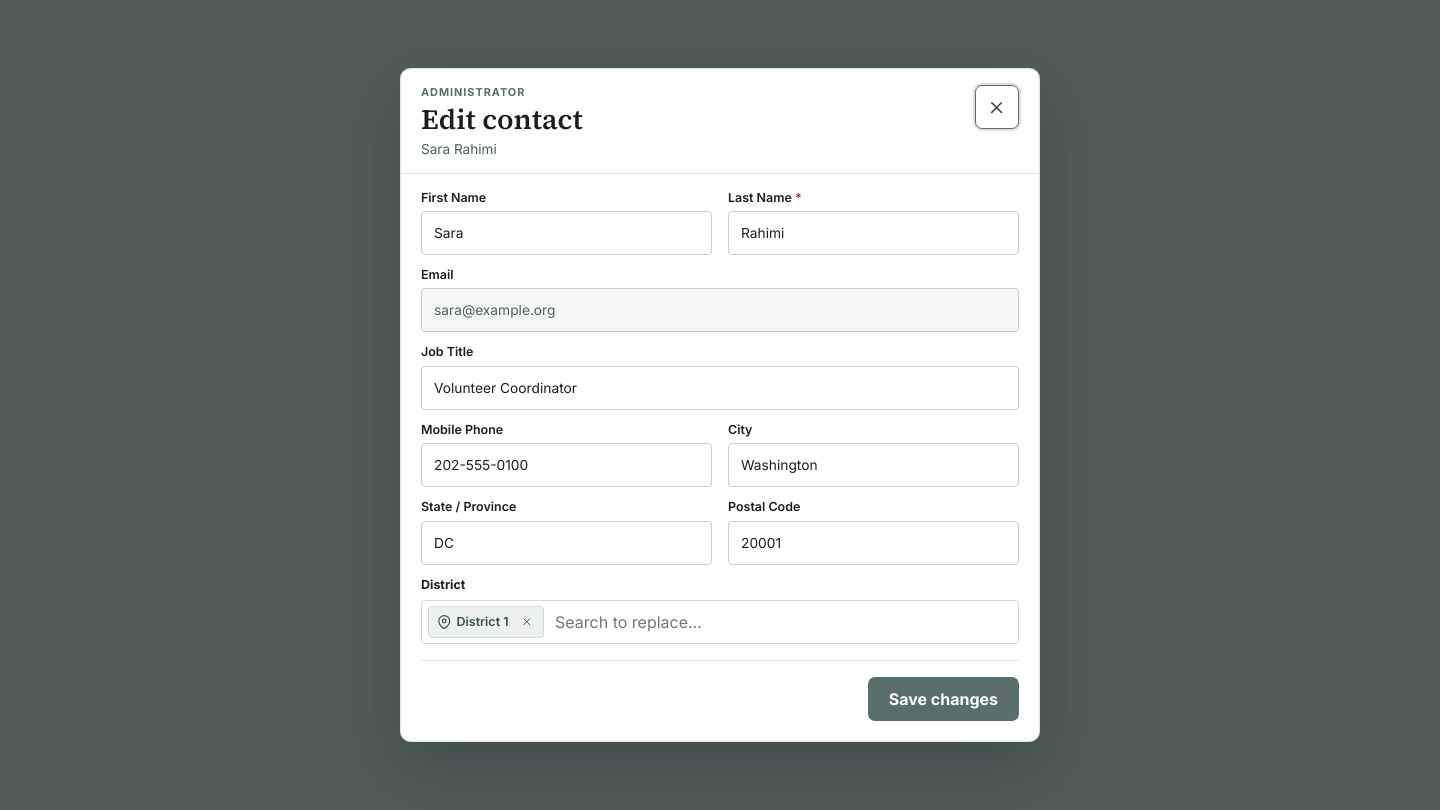
Test: AdminContactEditModal › validates Last Name and keeps a failed save open with a safe error
Clear the field labelled "Last Name" at (874, 233), box x1=728 y1=211 x2=1019 y2=255
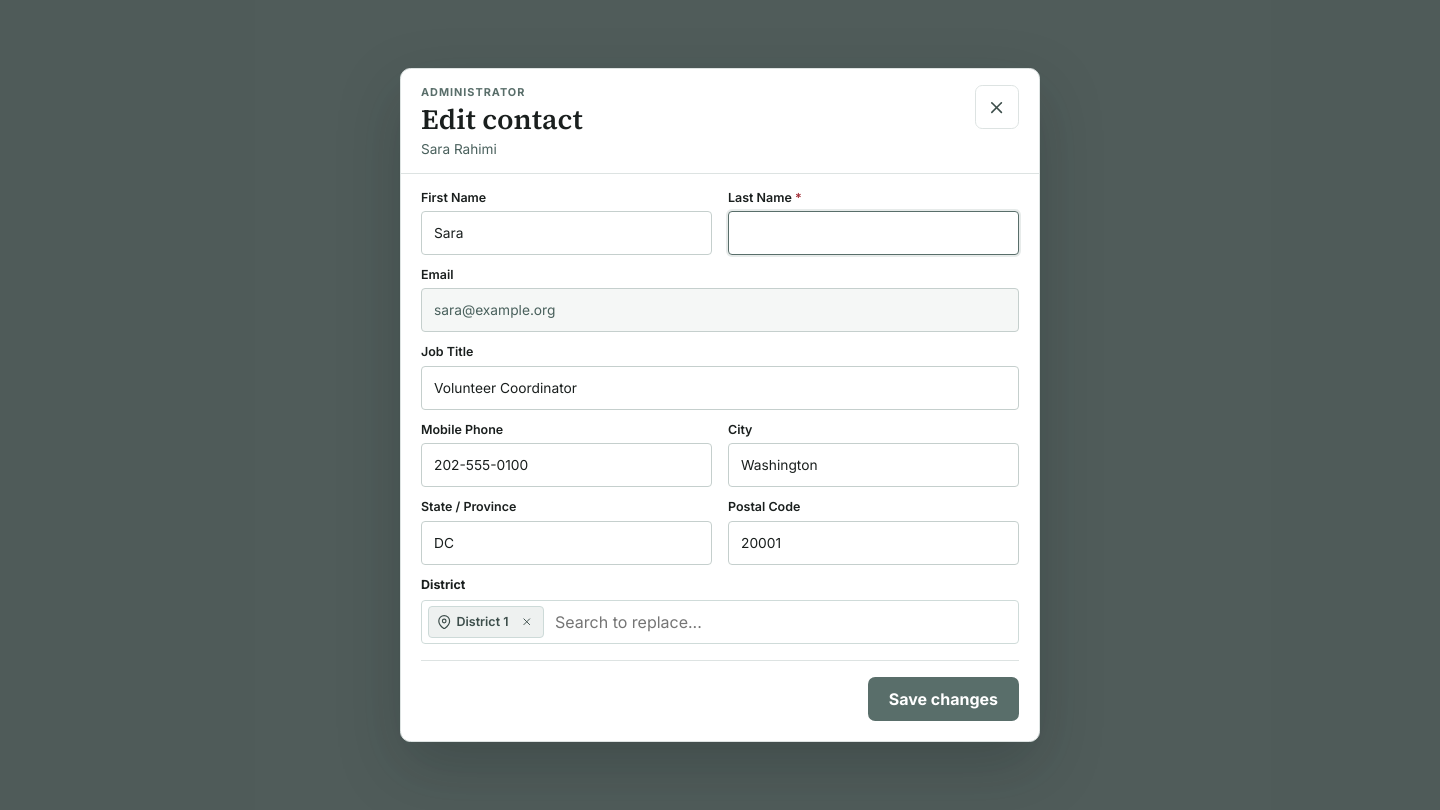
Click the button "Save changes" at (943, 699), box x1=868 y1=677 x2=1019 y2=721
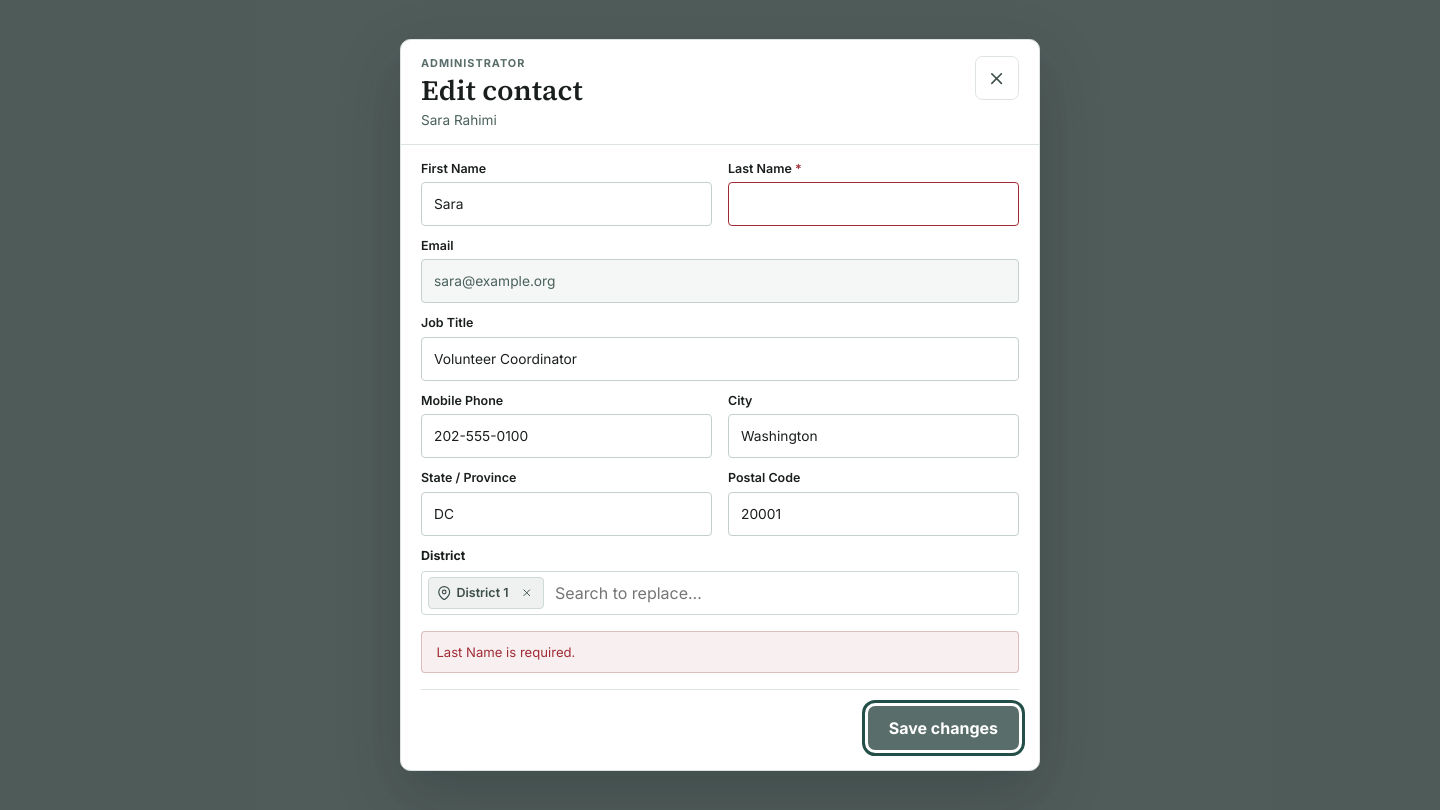
Expected: the message reads "Last Name is required.", x1=436 y1=644 x2=575 y2=660
Type "Rahimi" into the field labelled "Last Name" at (874, 204), box x1=728 y1=182 x2=1019 y2=226
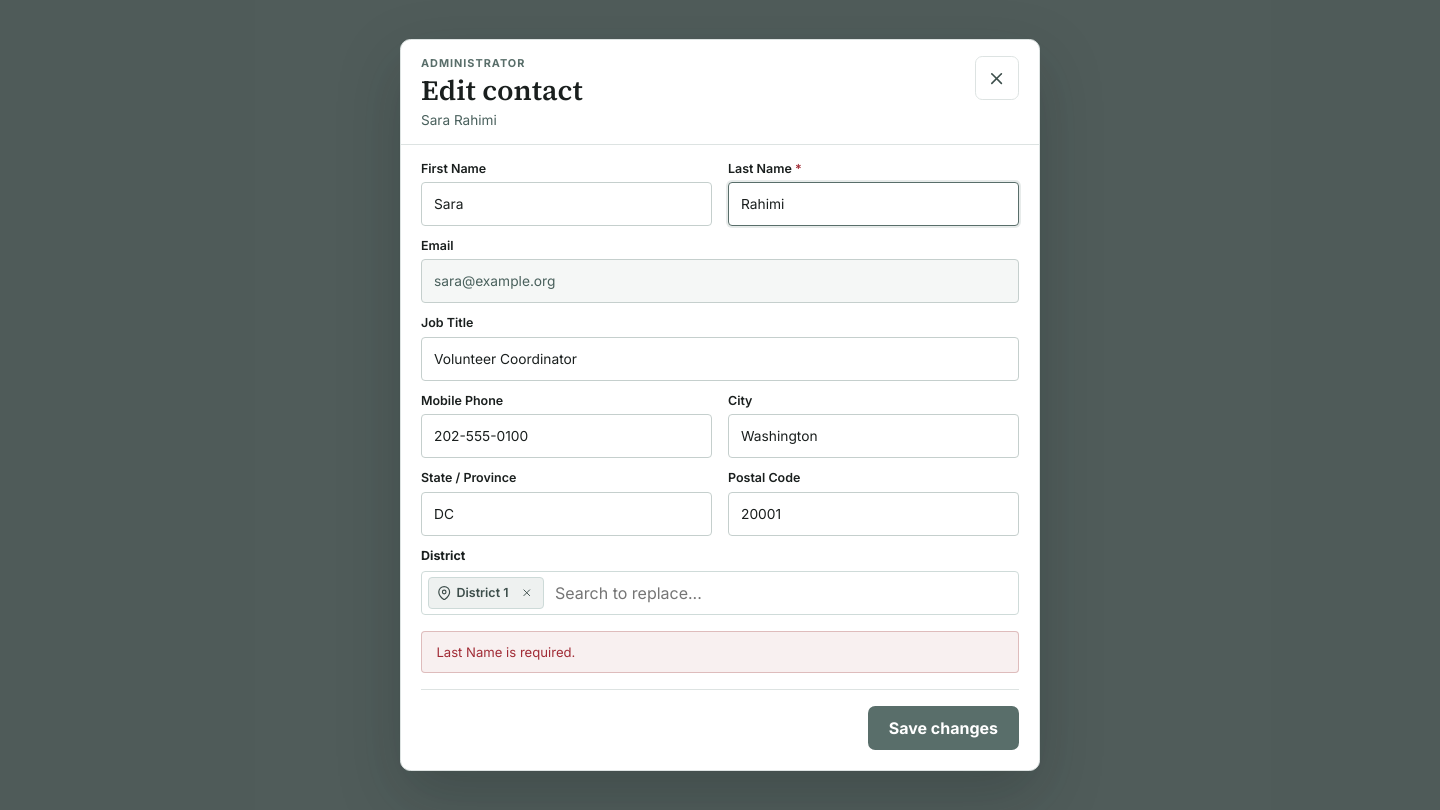
Click the button "Save changes" at (943, 728), box x1=868 y1=706 x2=1019 y2=750
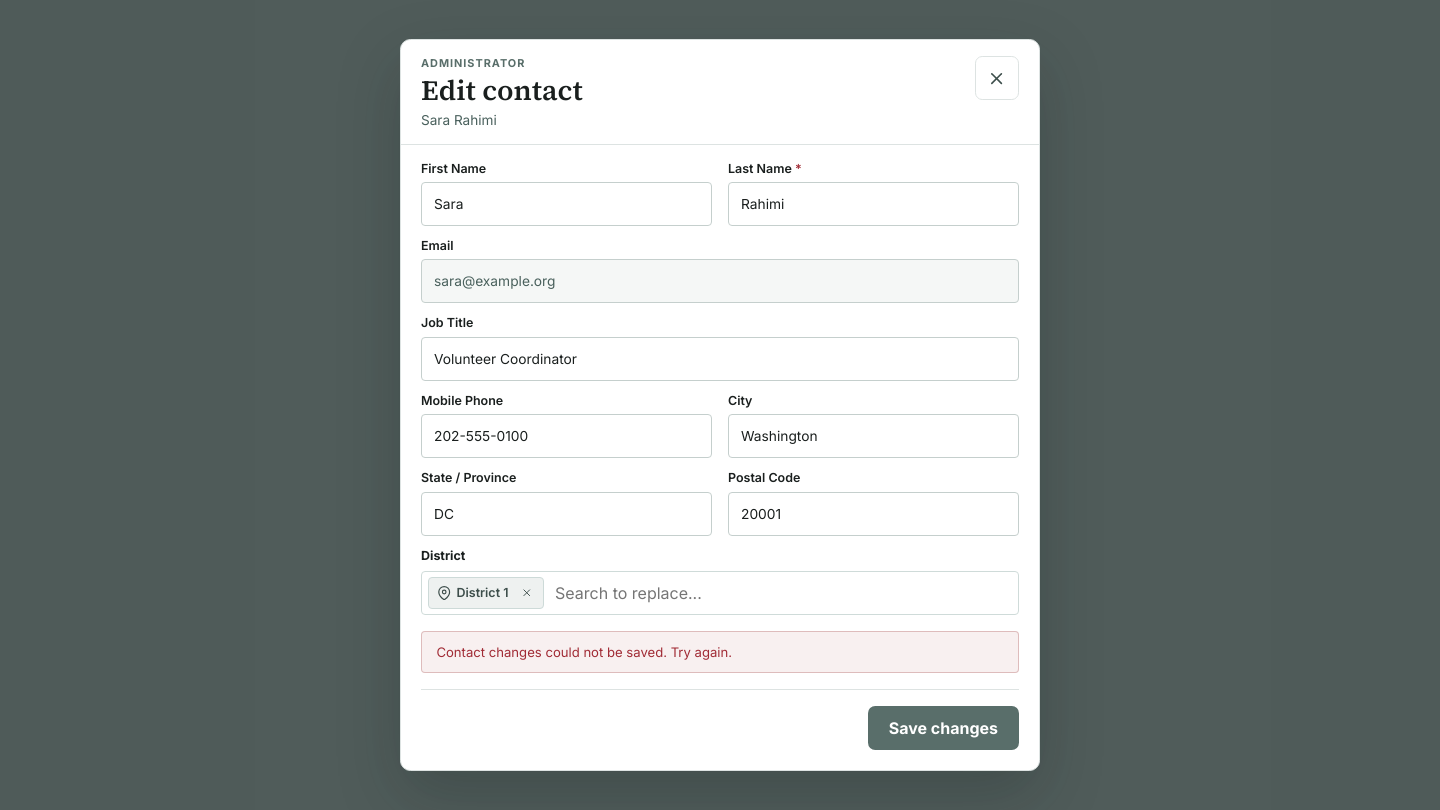
Expected: the dialog is shown, x1=400 y1=39 x2=1040 y2=771
Expected: the message reads "Contact changes could not be saved. Try again.", x1=436 y1=644 x2=732 y2=660
